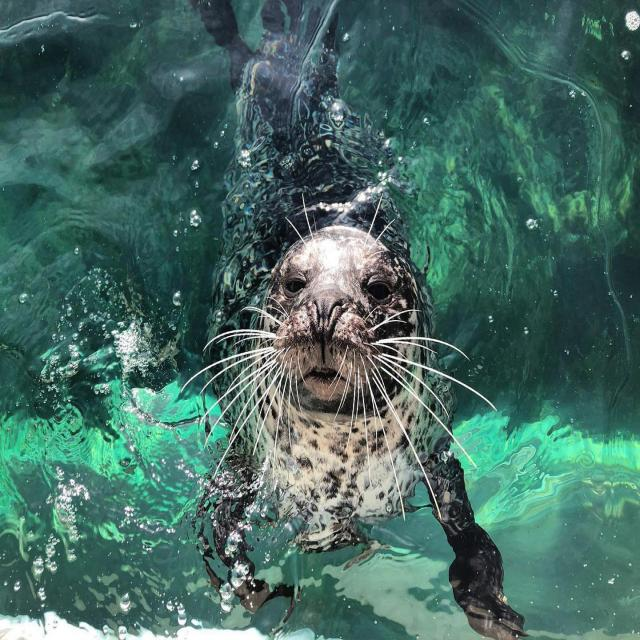seal: (198, 0, 526, 639)
